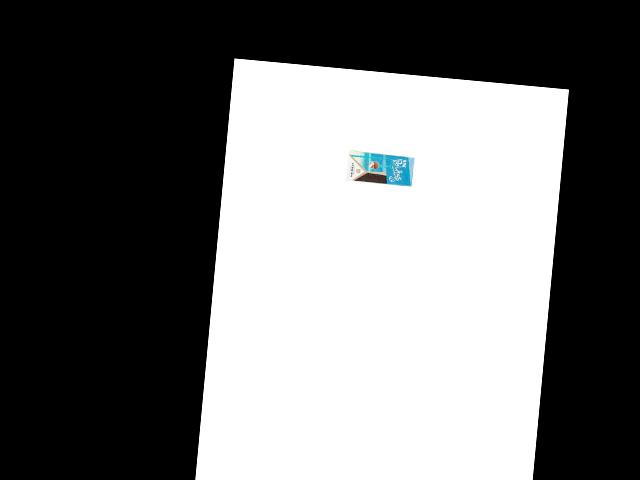chocolate: (343, 149, 415, 188)
